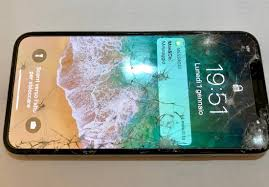iphone: (4, 24, 269, 157)
iphone10: (1, 25, 266, 158)
